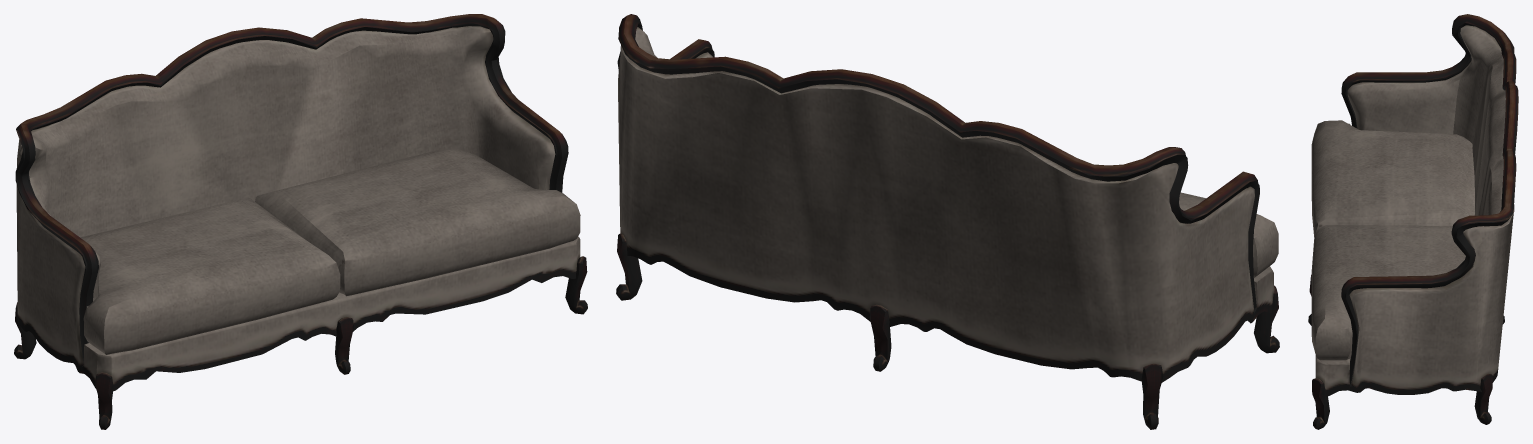
The model's file is Sofa_01.fbx.
3 views of the same model, side by side, from view 1: azimuth 30°, elevation 25°; view 2: azimuth 150°, elevation 25°; view 3: azimuth 270°, elevation 25° (orthographic). The views are drawn at different scales.
Parts seen in each view (by area): view 1: Sofa_01; view 2: Sofa_01; view 3: Sofa_01.
Boxes of the visible parts, x1=… form: Sofa_01: x1=14, y1=14, x2=587, y2=429; Sofa_01: x1=616, y1=14, x2=1279, y2=429; Sofa_01: x1=1308, y1=14, x2=1518, y2=429.
Bounding box in the file's own units: 1.57 × 0.7963 × 0.6584.
